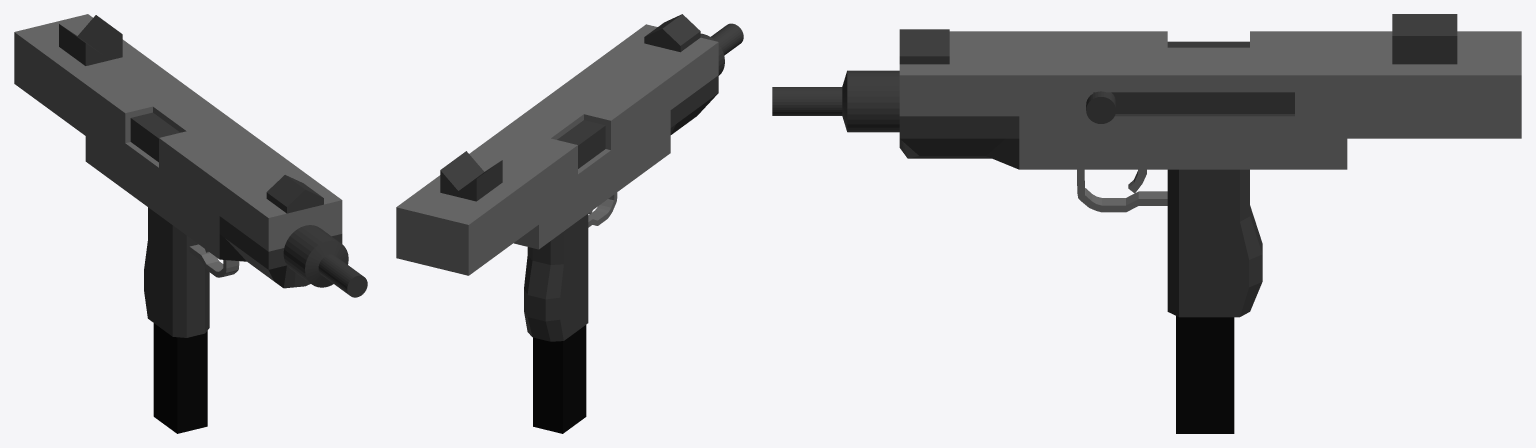
The model's file is smg.fbx.
3 views of the same model, side by side, from view 1: azimuth 30°, elevation 25°; view 2: azimuth 150°, elevation 25°; view 3: azimuth 270°, elevation 25° (orthographic). The views are drawn at different scales.
Parts seen in each view (by area): view 1: Gun, Cube, Bolt; view 2: Gun, Cube, Bolt; view 3: Gun, Cube, Charging Handel.
Part boxes in pixels (bbox=[...]): Gun: bbox=[14, 14, 367, 337]; Cube: bbox=[153, 244, 239, 433]; Bolt: bbox=[130, 112, 179, 162]; Gun: bbox=[396, 14, 743, 341]; Cube: bbox=[533, 192, 617, 433]; Bolt: bbox=[557, 120, 605, 168]; Gun: bbox=[772, 14, 1521, 317]; Cube: bbox=[1077, 169, 1234, 433]; Charging Handel: bbox=[1086, 91, 1116, 123].
Bounding box in the file's own units: 145 × 547 × 928.
4 materials, 4 textured.
